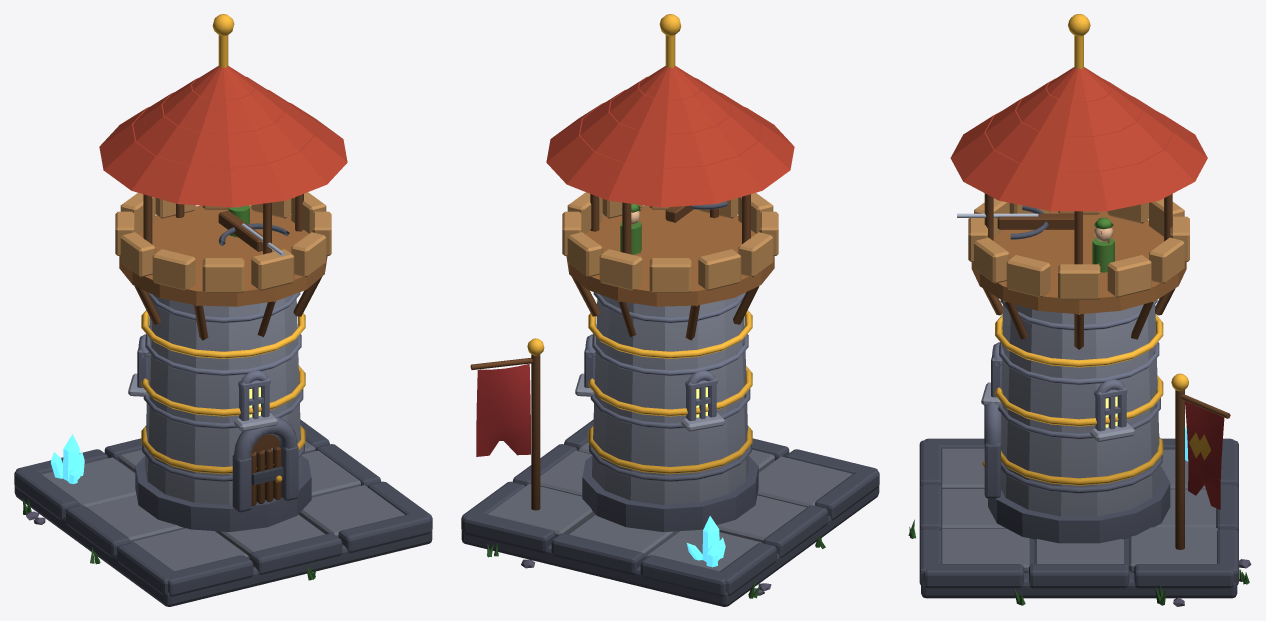
File: archer_tower.glb
3 views of the same model, side by side, from view 1: azimuth 30°, elevation 25°; view 2: azimuth 150°, elevation 25°; view 3: azimuth 270°, elevation 25° (orthographic). The views are drawn at different scales.
Visible parts, largest first — view 1: t0_stone, t0_stone_dark, turret_t0_roof_red, turret_t0_wood_light, turret_t0_wood, t2_gold, turret_t0_wood_dark, t0_wood_dark, t3_crystal, turret_t0_gold; view 2: t0_stone, t0_stone_dark, turret_t0_roof_red, turret_t0_wood_light, turret_t0_wood, t1_cloth_red, t2_gold, turret_t0_wood_dark, t1_wood_dark, t3_crystal, turret_t0_gold; view 3: t0_stone, t0_stone_dark, turret_t0_roof_red, turret_t0_wood_light, turret_t0_wood, t2_gold, turret_t0_wood_dark, t1_cloth_red, t1_wood_dark, turret_t0_cloth_green, turret_t0_gold, t1_gold (+1 smaller).
Boxes of the visible parts, bbox=[...] form: t0_stone: bbox=[42, 294, 404, 571]; t0_stone_dark: bbox=[14, 292, 432, 606]; turret_t0_roof_red: bbox=[99, 66, 347, 207]; turret_t0_wood_light: bbox=[115, 192, 331, 292]; turret_t0_wood: bbox=[119, 205, 327, 306]; t2_gold: bbox=[141, 310, 305, 474]; turret_t0_wood_dark: bbox=[134, 194, 322, 340]; t0_wood_dark: bbox=[251, 434, 281, 505]; t3_crystal: bbox=[51, 434, 84, 484]; turret_t0_gold: bbox=[212, 14, 234, 67]; t0_stone: bbox=[487, 294, 852, 571]; t0_stone_dark: bbox=[461, 292, 879, 606]; turret_t0_roof_red: bbox=[546, 66, 794, 207]; turret_t0_wood_light: bbox=[562, 192, 778, 292]; turret_t0_wood: bbox=[566, 205, 774, 306]; t1_cloth_red: bbox=[476, 363, 530, 456]; t2_gold: bbox=[588, 310, 752, 474]; turret_t0_wood_dark: bbox=[571, 194, 759, 340]; t1_wood_dark: bbox=[470, 354, 540, 510]; t3_crystal: bbox=[687, 516, 725, 567]; turret_t0_gold: bbox=[659, 14, 681, 67]; t0_stone: bbox=[940, 304, 1218, 572]; t0_stone_dark: bbox=[919, 300, 1238, 598]; turret_t0_roof_red: bbox=[950, 67, 1207, 211]; turret_t0_wood_light: bbox=[968, 198, 1189, 299]; turret_t0_wood: bbox=[971, 211, 1186, 314]; t2_gold: bbox=[995, 314, 1163, 485]; turret_t0_wood_dark: bbox=[983, 193, 1175, 349]; t1_cloth_red: bbox=[1185, 401, 1224, 509]; t1_wood_dark: bbox=[1175, 390, 1230, 549]; turret_t0_cloth_green: bbox=[1092, 217, 1114, 272]; turret_t0_gold: bbox=[1068, 14, 1090, 69]; t1_gold: bbox=[1171, 373, 1211, 460].
Bounding box in the file's own units: 2.12 × 3.53 × 2.11.
